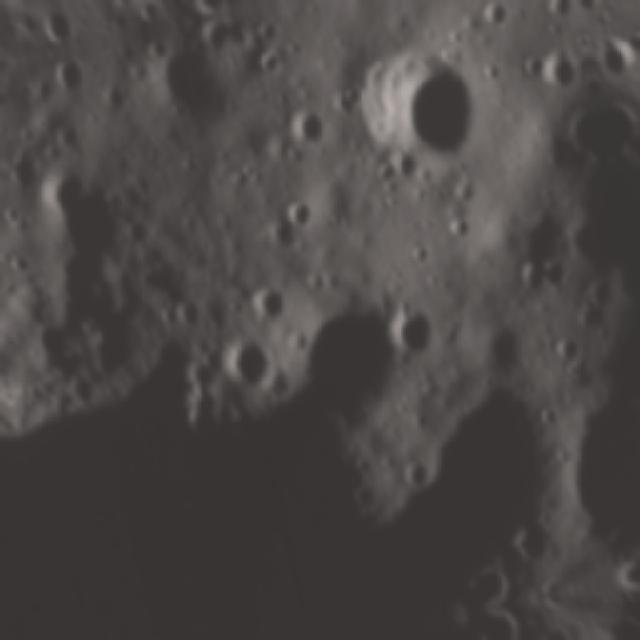crater: (340, 38, 494, 185), (260, 282, 409, 432), (535, 379, 640, 561), (26, 152, 140, 274), (132, 34, 240, 141), (211, 328, 278, 398), (382, 294, 444, 369), (451, 559, 520, 616), (472, 322, 530, 386), (500, 516, 560, 573), (276, 101, 332, 156), (43, 49, 94, 102), (537, 44, 586, 98), (247, 279, 291, 335), (59, 364, 110, 410), (391, 450, 437, 496), (532, 256, 576, 304), (281, 190, 325, 233), (2, 151, 43, 197), (145, 296, 186, 342), (198, 15, 242, 56), (169, 292, 208, 336), (514, 258, 554, 299), (474, 0, 516, 38), (548, 332, 586, 372), (515, 48, 551, 89), (443, 207, 477, 250), (388, 148, 424, 188), (332, 84, 368, 124), (95, 82, 133, 118), (137, 31, 175, 66), (252, 16, 288, 52), (253, 47, 287, 82), (404, 238, 439, 272), (478, 58, 511, 92), (369, 156, 400, 190), (298, 265, 329, 298), (5, 247, 32, 281), (542, 0, 576, 23), (537, 401, 561, 432), (505, 0, 549, 14)
